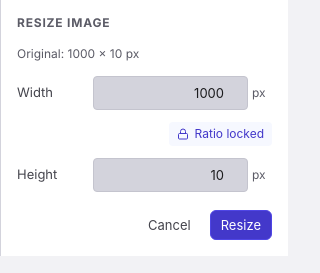
ResizeDialog — aspect ratio › never lets a linked side fall below one pixel
This screenshot has width=320, height=273.
Replace the text in the number field labelled "Width px" with "1". click: (170,93)
box: [93,76,248,110]
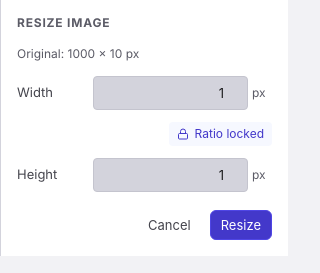
Expected: the number field labelled "Height px" holds "1", [93,158,248,192]
